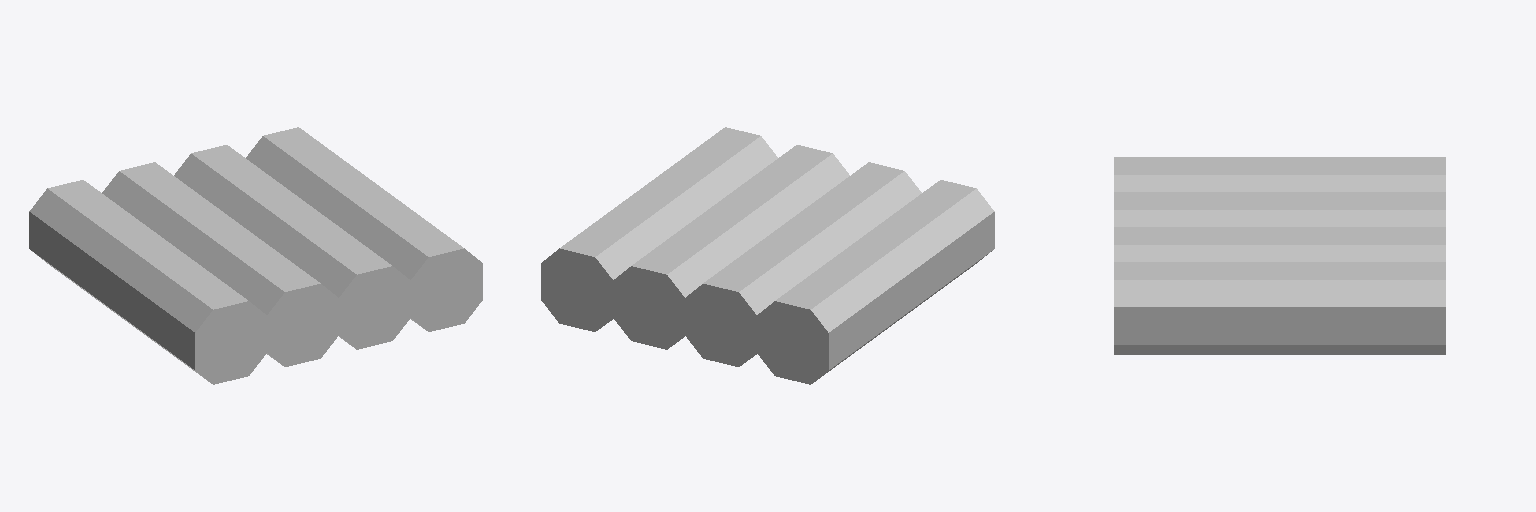
Rendered from conveyor-bars.obj.
3 renders of one model, left to right at view 1: azimuth 30°, elevation 25°; view 2: azimuth 150°, elevation 25°; view 3: azimuth 270°, elevation 25°, orthographic.
Visible parts, largest first — view 1: conveyor-bars; view 2: conveyor-bars; view 3: conveyor-bars.
Part boxes in pixels (x1,y1,x2,y2): conveyor-bars: (29,127,482,384); conveyor-bars: (541,127,994,384); conveyor-bars: (1114,157,1445,354).
Bounding box in the file's own units: 1 × 0.25 × 1.